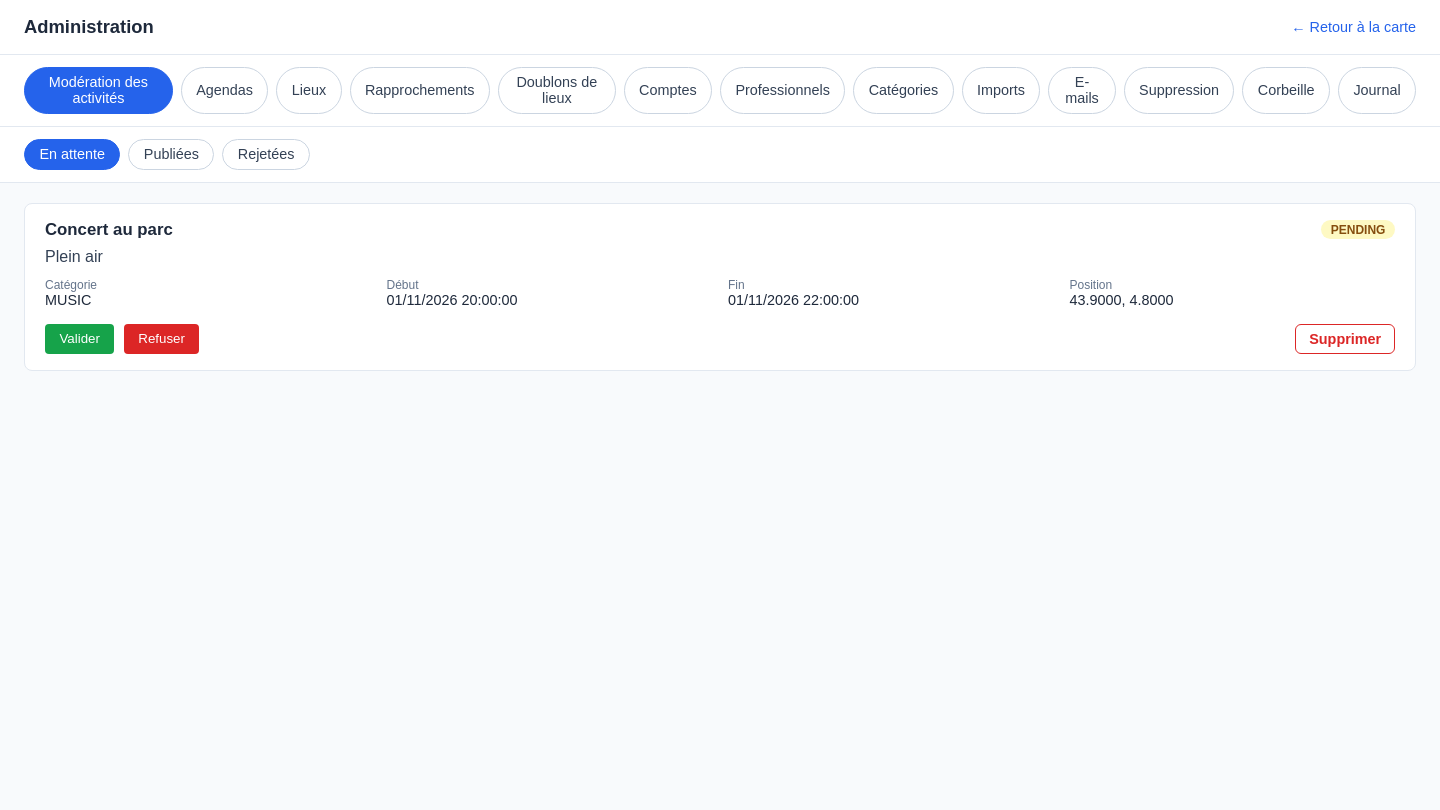
AdminPage — modération › exige un motif pour refuser une activité et l'envoie au serveur
The image size is (1440, 810).
Click the button "Refuser" at (162, 339), box x1=124 y1=324 x2=199 y2=354
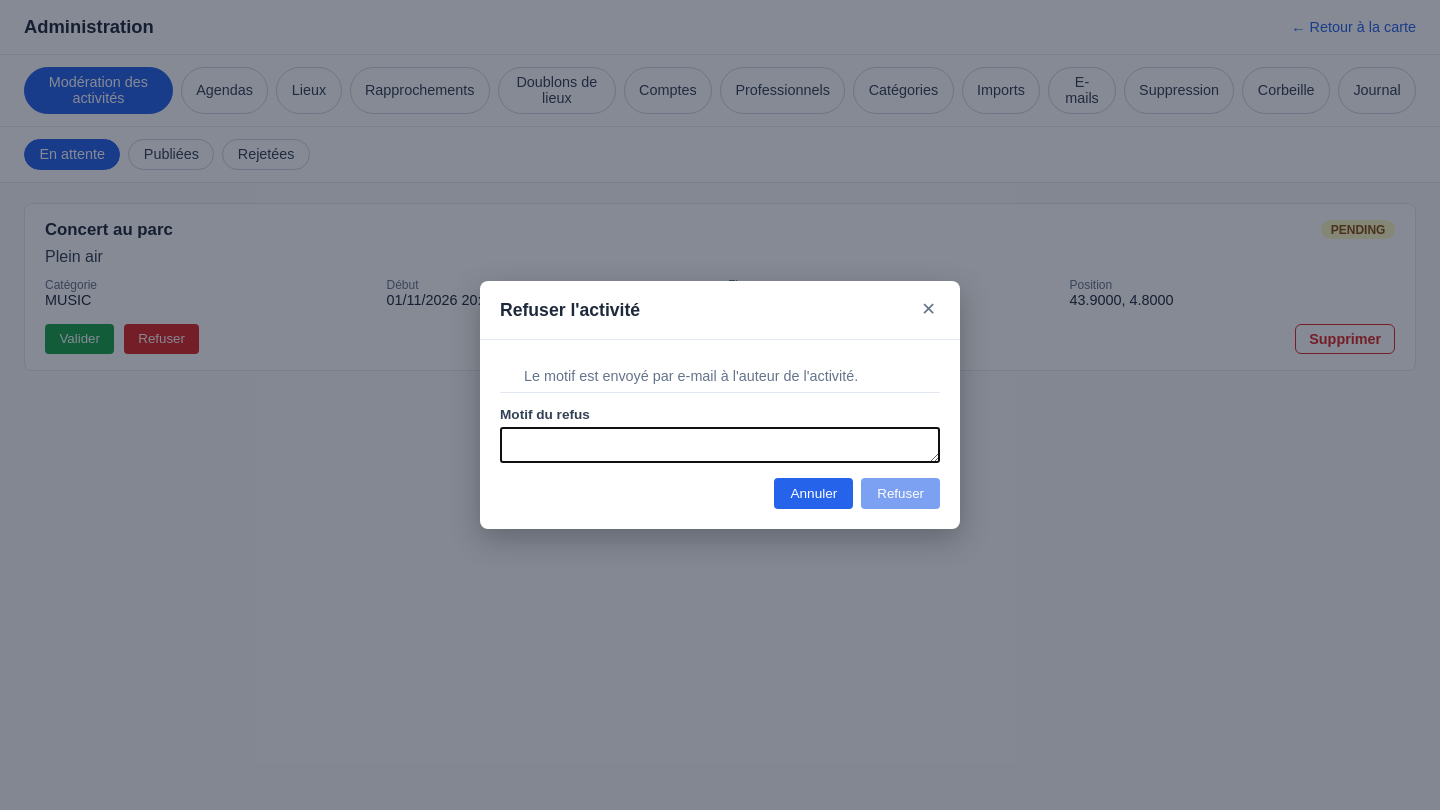
Check: the button "Refuser" is disabled, box x1=861 y1=478 x2=940 y2=509
Type "Hors périmètre" into the text box labelled "Motif du refus" at (720, 445), box x1=500 y1=427 x2=940 y2=463
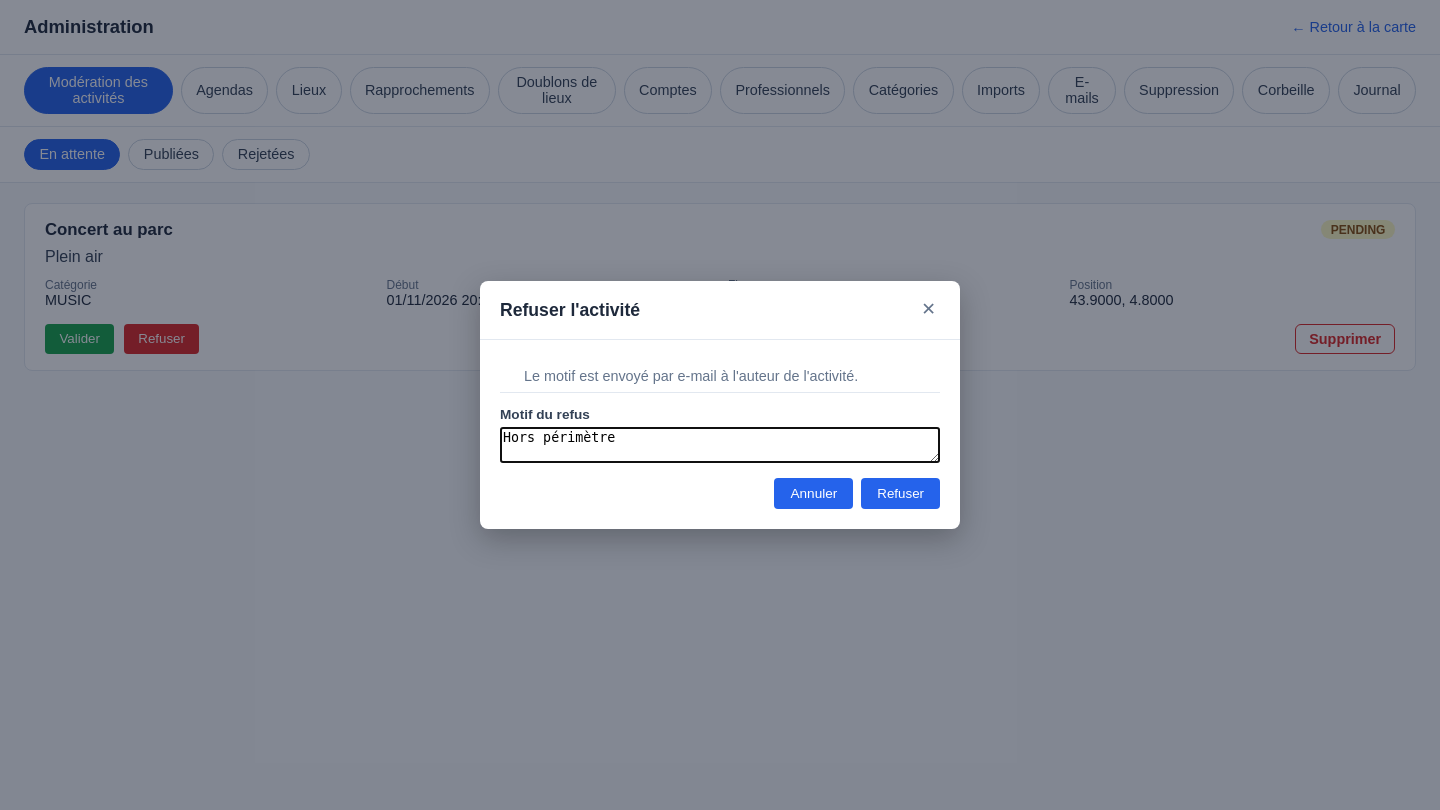
Click the button "Refuser" at (901, 493), box x1=861 y1=478 x2=940 y2=509
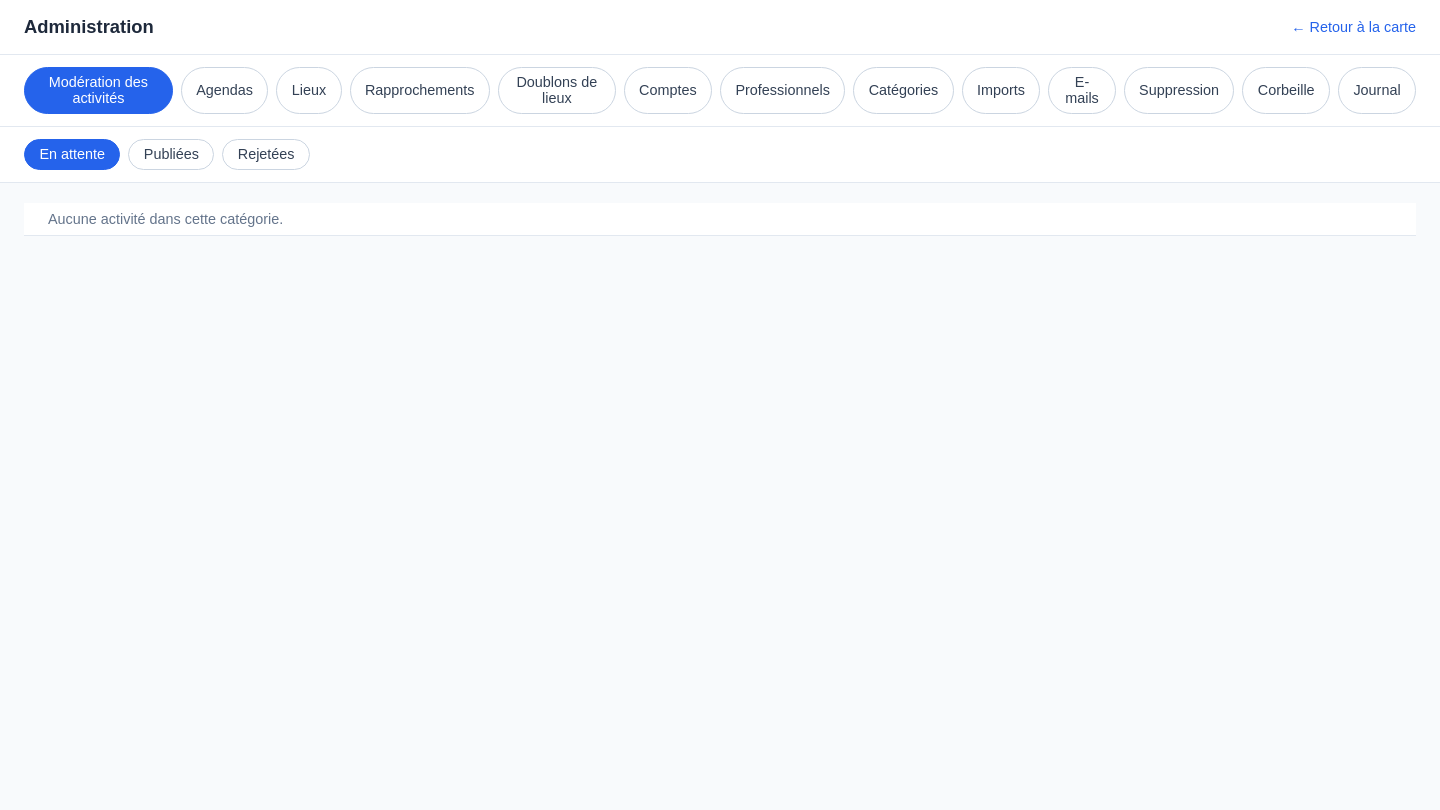
Check: the text "Aucune activité dans cette catégorie." is shown, box x1=24 y1=203 x2=1416 y2=236
